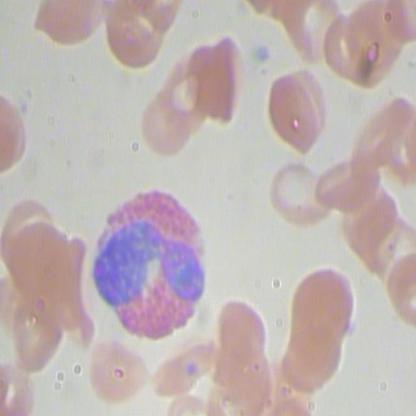Platelets: (249, 41, 272, 68)
RBC: (260, 63, 332, 157), (181, 32, 248, 126), (209, 290, 276, 384), (3, 212, 69, 306), (283, 262, 356, 346), (276, 307, 348, 392), (264, 152, 334, 236), (4, 290, 66, 376), (85, 331, 153, 407), (313, 142, 380, 219), (144, 338, 221, 402), (101, 1, 169, 73), (140, 75, 194, 162), (317, 9, 378, 85), (343, 1, 404, 75), (1, 87, 35, 178)
WBC: (83, 186, 218, 339)
